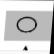no answer: (13, 15, 40, 35)
